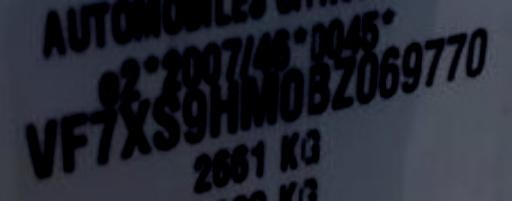letter: (240, 72, 278, 129), (26, 117, 56, 178), (208, 79, 240, 136), (58, 112, 88, 170), (150, 93, 180, 150), (88, 108, 118, 164), (180, 88, 208, 143), (120, 100, 148, 155), (466, 24, 494, 76), (278, 65, 306, 116), (378, 43, 402, 99), (356, 49, 382, 100), (331, 54, 355, 109), (308, 61, 332, 114), (444, 29, 468, 81), (423, 34, 445, 86), (401, 40, 423, 92)
